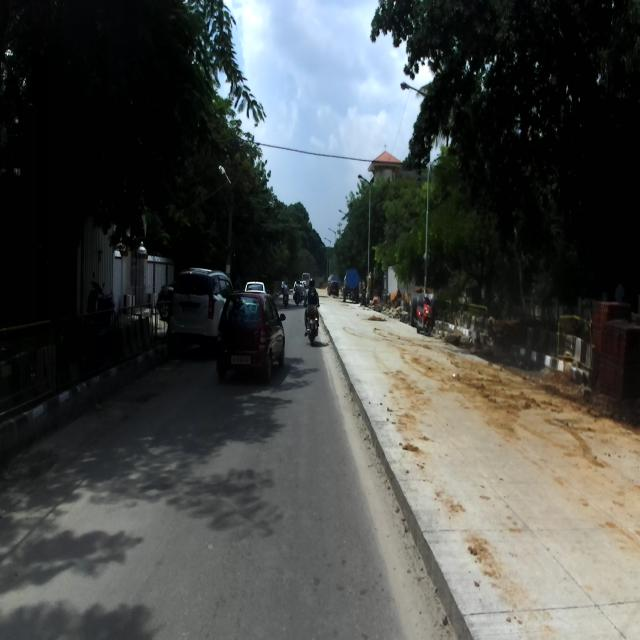car ahead at: (218, 285, 288, 384), (167, 268, 227, 350)
